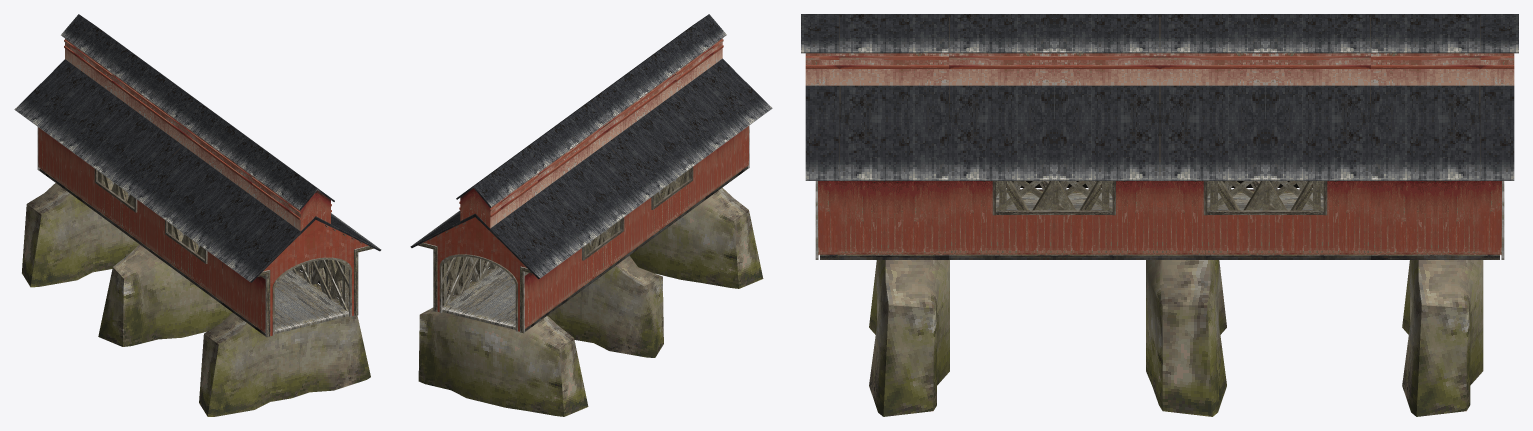
Rendered from Covered_bridge_03.glb.
3 renders of one model, left to right at view 1: azimuth 30°, elevation 25°; view 2: azimuth 150°, elevation 25°; view 3: azimuth 270°, elevation 25°, orthographic. The views are drawn at different scales.
Parts seen in each view (by area): view 1: Covered_bridge_03; view 2: Covered_bridge_03; view 3: Covered_bridge_03.
Boxes of the visible parts, box(x1,y1,x2,y2) form: Covered_bridge_03: box(14, 14, 381, 416); Covered_bridge_03: box(410, 14, 772, 416); Covered_bridge_03: box(801, 14, 1518, 416).
Bounding box in the file's own units: 10.78 × 14.4 × 27.27.
Materials: 1 (1 with a texture image).
